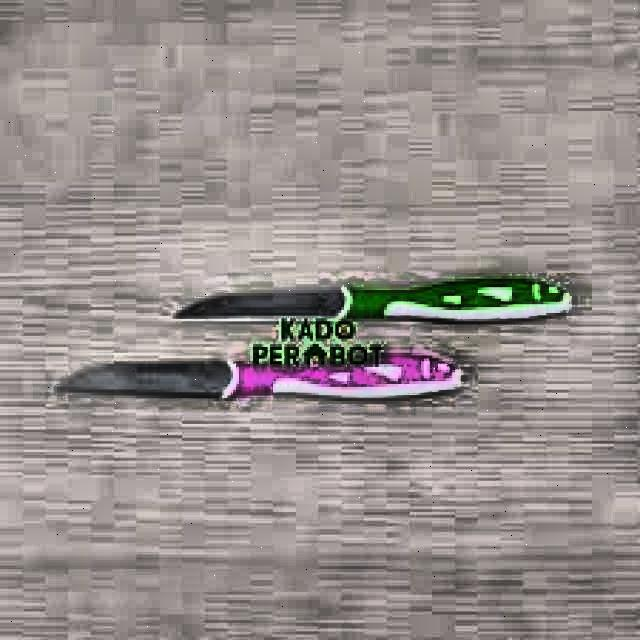knife: (57, 353, 459, 401), (175, 278, 573, 321)
